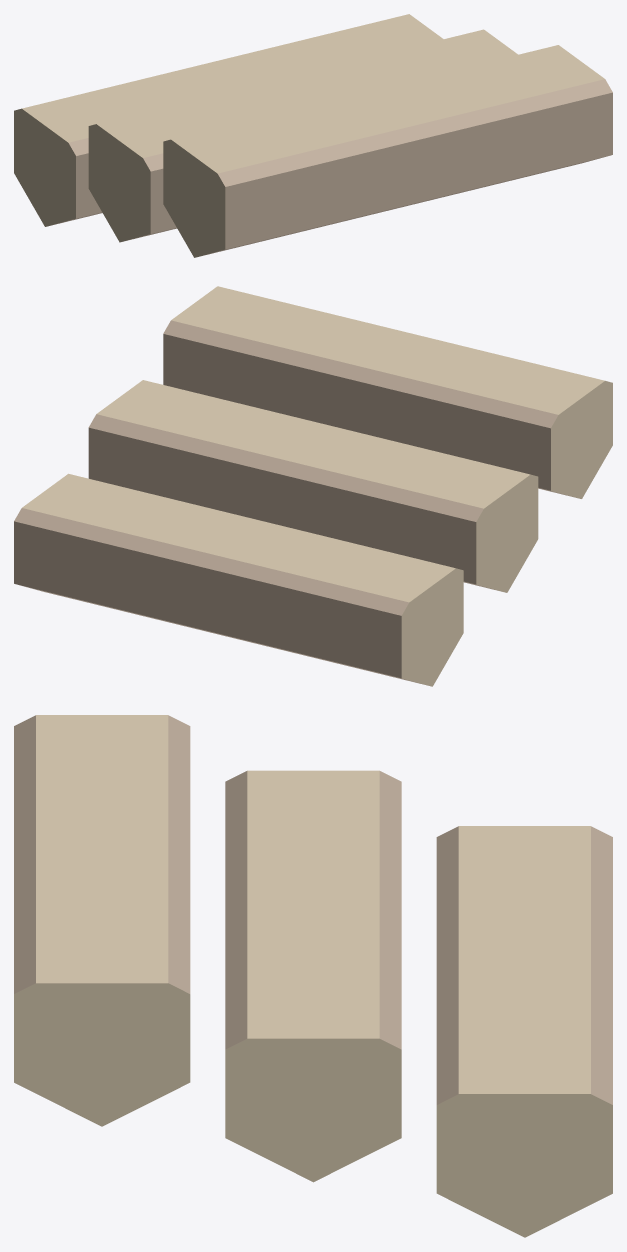
Rendered from Prop_Bridge_Log_End.glb.
The picture shows the model from 3 angles, top to bottom: view 1: azimuth 30°, elevation 25°; view 2: azimuth 150°, elevation 25°; view 3: azimuth 270°, elevation 25°; orthographic projection. The views are drawn at different scales.
Visible parts, largest first — view 1: object3, object1, object2; view 2: object2, object1, object3; view 3: object1, object2, object3.
Boxes of the visible parts, box(x1,y1,x2,y2) form: object3: box(163, 45, 612, 257); object1: box(88, 29, 517, 242); object2: box(14, 14, 443, 226); object2: box(14, 473, 463, 686); object1: box(88, 380, 538, 592); object3: box(163, 286, 612, 498); object1: box(225, 770, 401, 1182); object2: box(436, 826, 612, 1237); object3: box(14, 715, 190, 1126).
Bounding box in the file's own units: 1 × 0.4431 × 0.9444.
